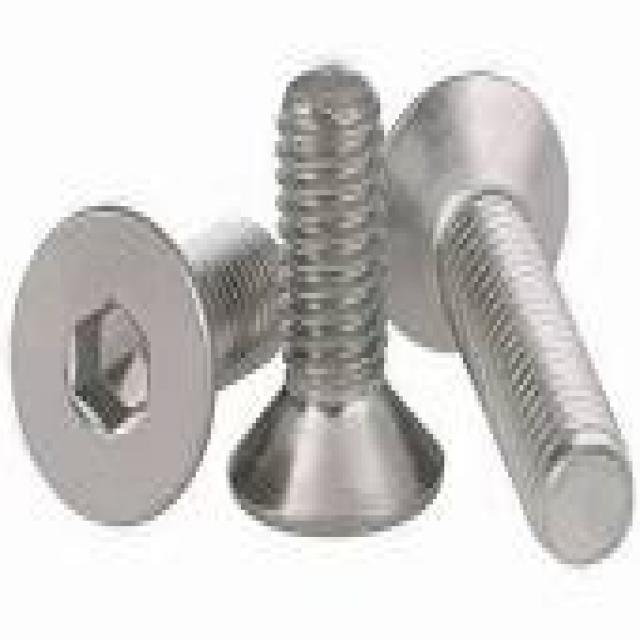Screw: (384, 71, 632, 569), (226, 65, 448, 542), (11, 206, 290, 526)
